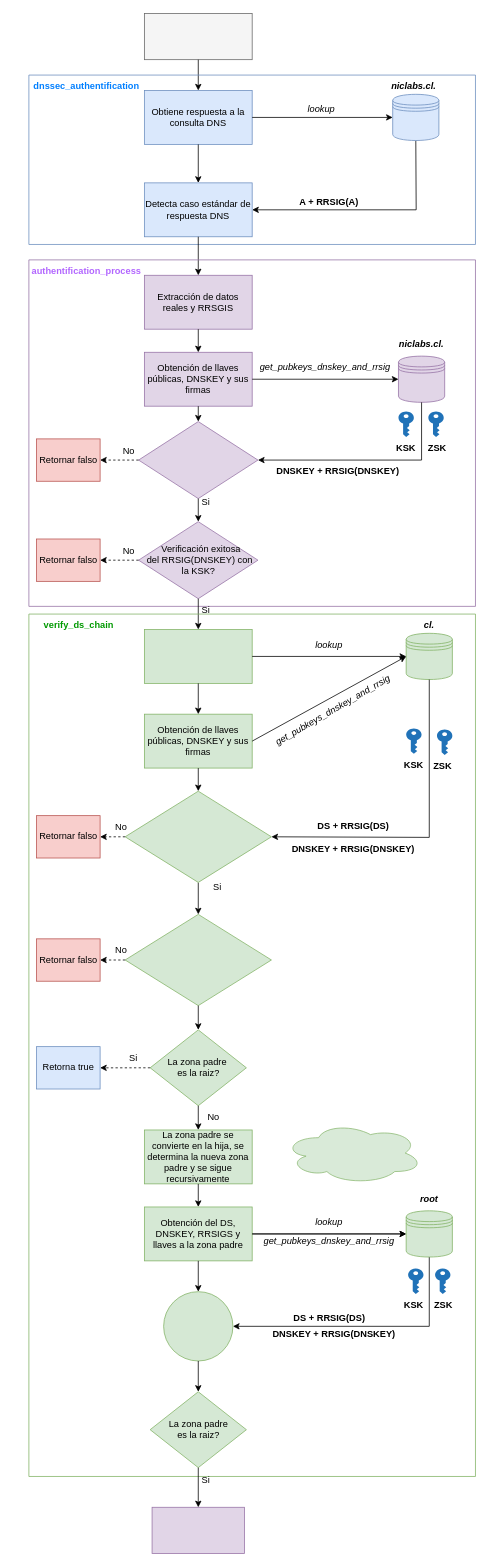
Image size: 489x1567. Some labels were removed from this diagram. Each missing label, with the box of its shape:
A este punto la zona hija es .cl y la zona padre es root: (283, 1122, 422, 1184)
Crea consulta OPT de niclabs.cl: (144, 13, 252, 60)
DS.digest es igual al digest calculado con el DNSKEY de la zona hija?: (124, 914, 271, 1006)
Final: (151, 1507, 244, 1553)
Obtención del DS de la zona padre: (144, 629, 252, 683)
Se repite el mismo proceso de validaciones: (163, 1291, 233, 1361)
Verificación exitosa del RRSIG(A) con la ZSK ?: (138, 421, 258, 499)
Verificación exitosa del RRSIG(DNSKEY) con la KSK + RRSIG(DS) con la ZSK?: (124, 790, 271, 882)
